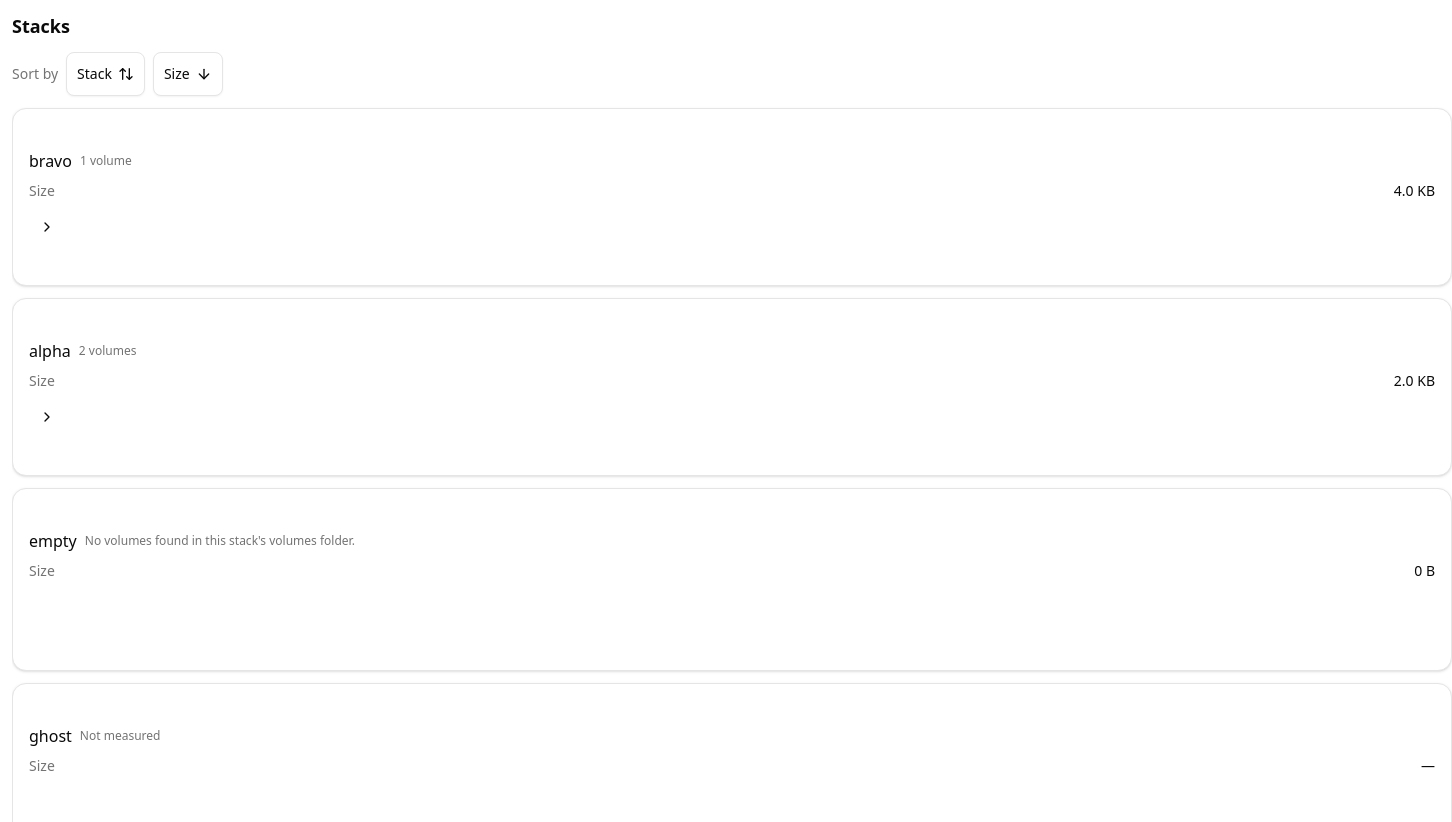
Test: StorageStacksTable volume expansion › collapses an open stack again
The width and height of the screenshot is (1452, 822).
Click the button named "Show volumes for bravo" at (47, 227), box 29,209 -> 65,245
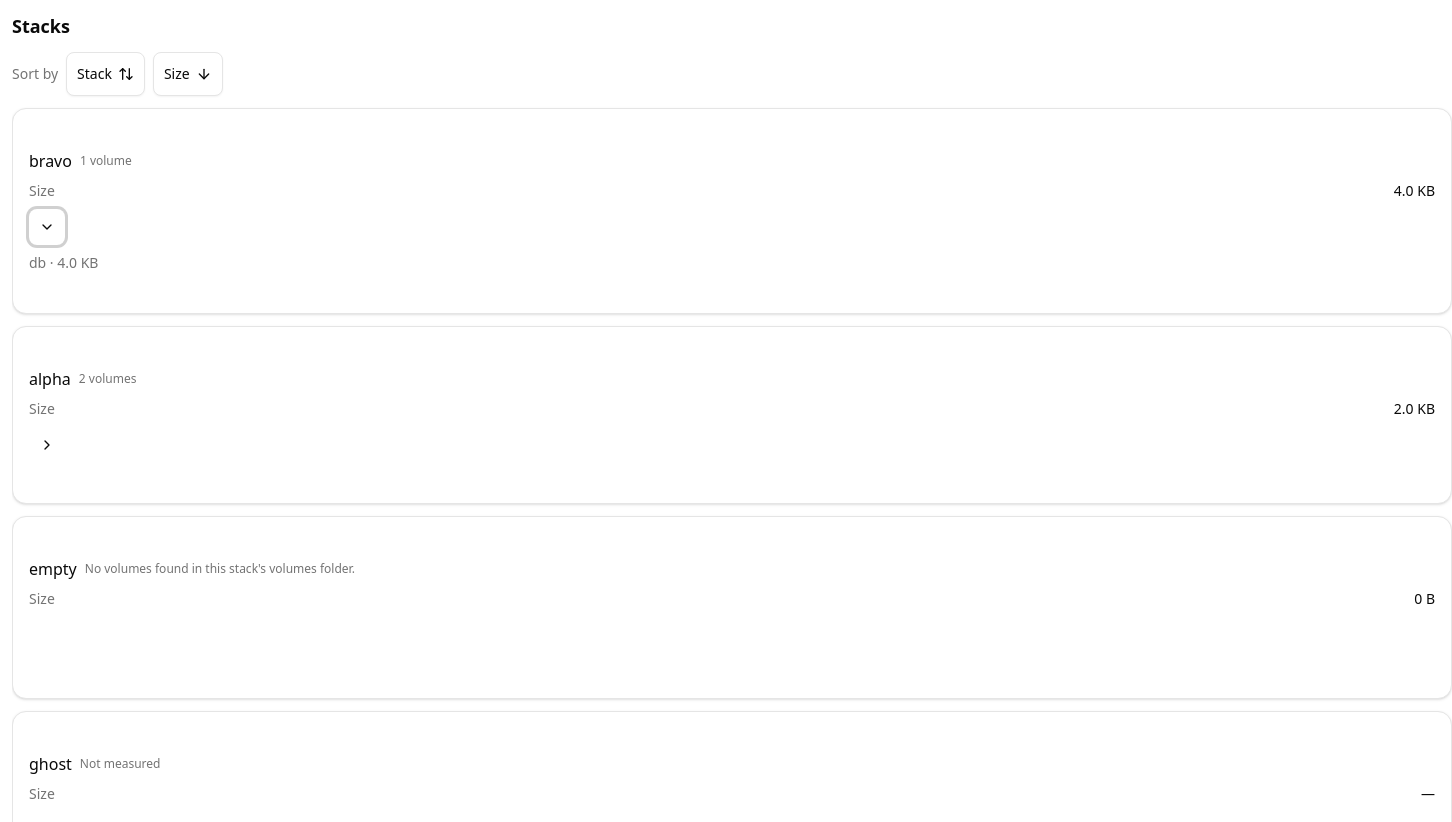
Click the button named "Hide volumes for bravo" at (47, 227), box 29,209 -> 65,245
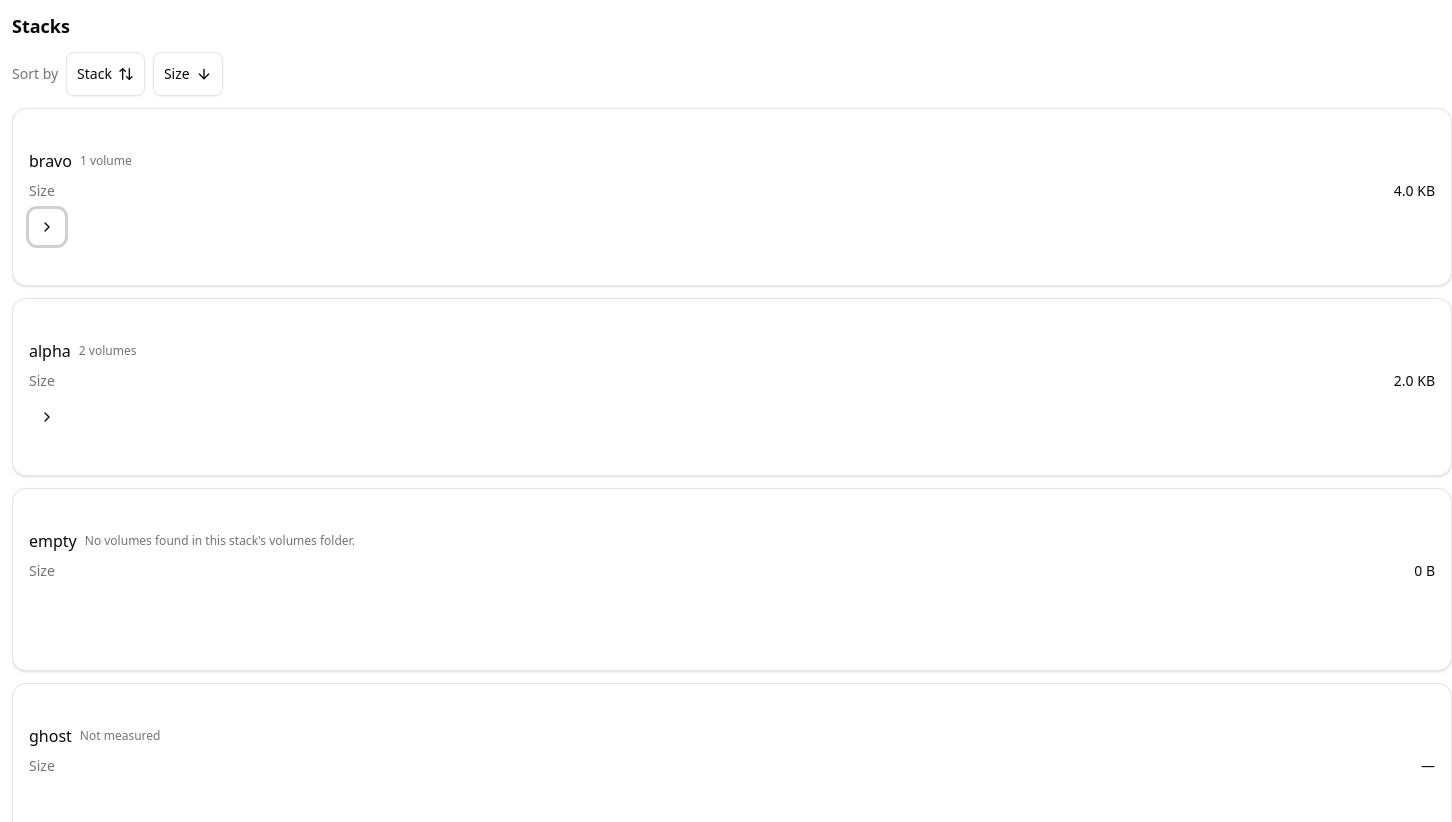
Check: the list item "db" is gone
